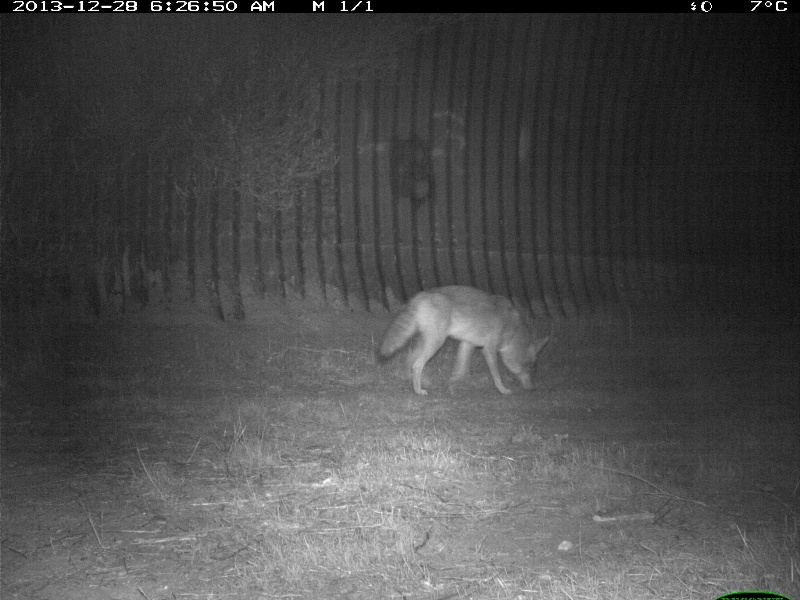coyote: (374, 281, 551, 398)
